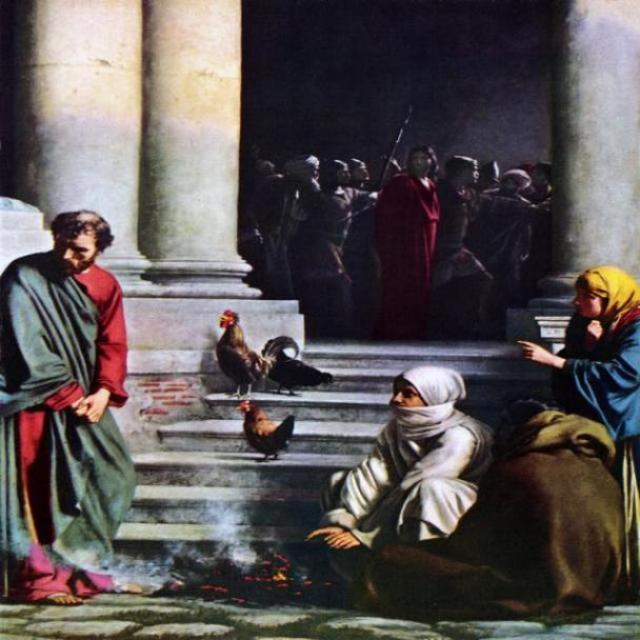Chicken: (197, 310, 287, 403), (229, 398, 293, 464)
